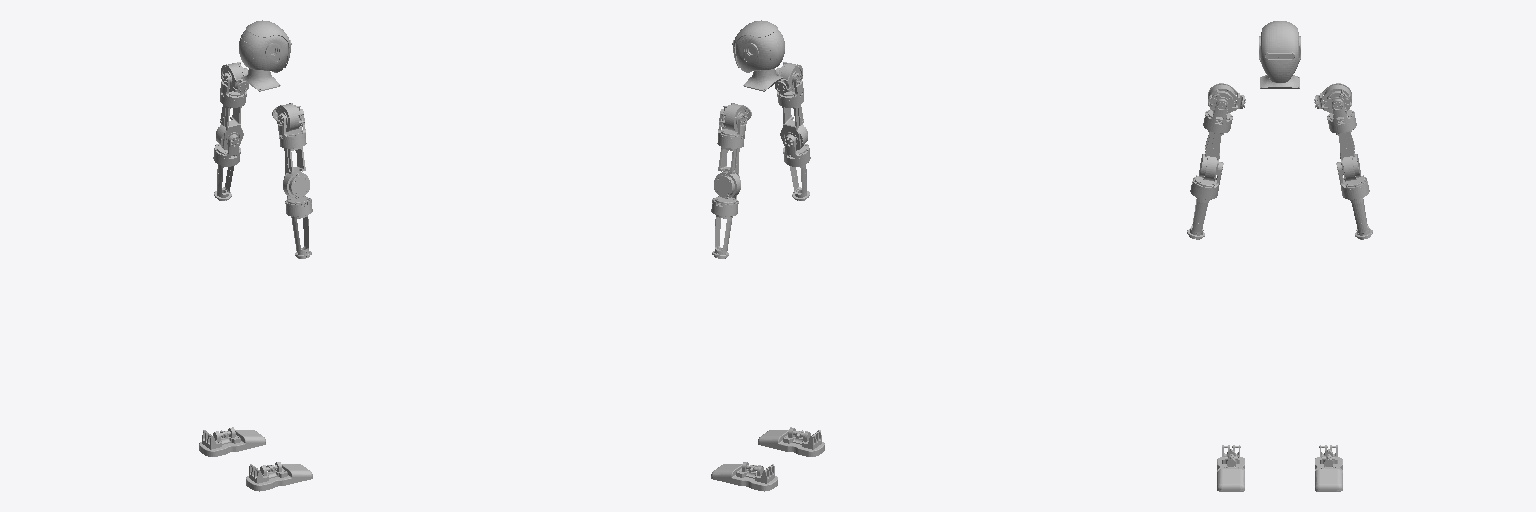
--- Facts derived from the render (not from the file) ---
Views: 3 orthographic renders of the robot side by side, from view 1: azimuth 30°, elevation 25°; view 2: azimuth 150°, elevation 25°; view 3: azimuth 270°, elevation 25°.
Robot: m1a_2v1_description — 27 links, 26 joints (23 revolute, 3 fixed); root link pelvis_link; default pose: all joints at 0.
Links seen in each view (by area): view 1: head_link, left_ankle_roll_link, right_ankle_roll_link, right_shoulder_yaw_link, left_shoulder_yaw_link, right_shoulder_roll_link, left_elbow_link, left_shoulder_roll_link, right_shoulder_pitch_link, left_shoulder_pitch_link; view 2: head_link, right_ankle_roll_link, left_ankle_roll_link, left_shoulder_yaw_link, right_shoulder_yaw_link, left_shoulder_roll_link, right_elbow_link, right_shoulder_roll_link, left_shoulder_pitch_link, right_shoulder_pitch_link; view 3: head_link, left_ankle_roll_link, right_ankle_roll_link, left_shoulder_yaw_link, right_shoulder_yaw_link, left_shoulder_pitch_link, right_shoulder_pitch_link, left_shoulder_roll_link, right_shoulder_roll_link, right_elbow_link, left_elbow_link.
Link boxes in pixels (bbox=[...]): head_link: bbox=[239, 20, 291, 91]; left_ankle_roll_link: bbox=[199, 427, 265, 456]; right_ankle_roll_link: bbox=[246, 462, 312, 491]; right_shoulder_yaw_link: bbox=[283, 147, 309, 198]; left_shoulder_yaw_link: bbox=[216, 105, 243, 150]; right_shoulder_roll_link: bbox=[278, 109, 306, 148]; left_elbow_link: bbox=[213, 134, 240, 166]; left_shoulder_roll_link: bbox=[220, 68, 247, 107]; right_shoulder_pitch_link: bbox=[272, 103, 304, 131]; left_shoulder_pitch_link: bbox=[221, 62, 248, 93]; head_link: bbox=[732, 20, 784, 91]; right_ankle_roll_link: bbox=[758, 427, 824, 456]; left_ankle_roll_link: bbox=[711, 462, 777, 491]; left_shoulder_yaw_link: bbox=[714, 147, 740, 198]; right_shoulder_yaw_link: bbox=[780, 105, 807, 150]; left_shoulder_roll_link: bbox=[717, 109, 745, 148]; right_elbow_link: bbox=[783, 134, 810, 166]; right_shoulder_roll_link: bbox=[776, 68, 803, 107]; left_shoulder_pitch_link: bbox=[719, 103, 751, 131]; right_shoulder_pitch_link: bbox=[775, 62, 802, 93]; head_link: bbox=[1259, 21, 1300, 88]; left_ankle_roll_link: bbox=[1315, 445, 1342, 491]; right_ankle_roll_link: bbox=[1217, 445, 1244, 491]; left_shoulder_yaw_link: bbox=[1336, 131, 1360, 181]; right_shoulder_yaw_link: bbox=[1199, 131, 1223, 181]; left_shoulder_pitch_link: bbox=[1314, 83, 1351, 113]; right_shoulder_pitch_link: bbox=[1208, 83, 1245, 113]; left_shoulder_roll_link: bbox=[1327, 99, 1356, 133]; right_shoulder_roll_link: bbox=[1203, 99, 1232, 133]; right_elbow_link: bbox=[1190, 162, 1223, 199]; left_elbow_link: bbox=[1336, 162, 1369, 199].
Bounding box of the posed robot: 0.2065 × 0.527 × 1.43 m (x, y, z).
Meshes: 27 distinct files referenced, 15 mesh visuals loaded (15 binary STL); not drawn: 12 (reference not matched to a file when rendering).

robot.urdf — m1a_2v1_description:
<?xml version='1.0' encoding='utf-8'?>
<robot name="m1a_2v1_description">
  <link name="pelvis_link">
    <inertial>
      <origin xyz="-0.0002767 0.0 -0.07464396" rpy="0 0 0" />
      <mass value="3.85781118" />
      <inertia ixx="0.01279832" ixy="3.34e-05" ixz="6.077e-05" iyy="0.01094948" iyz="2.028e-05" izz="0.01245453" />
    </inertial>
    <visual>
      <origin xyz="0 0 0" rpy="0 0 0" />
      <geometry>
        <mesh filename="package://m1a_2v1_description/meshes/pelvis_link.STL" />
      </geometry>
      <material name="">
        <color rgba="0.752941176470588 0.752941176470588 0.752941176470588 1" />
      </material>
    </visual>
    <collision>
      <origin xyz="0 0 0" rpy="0 0 0" />
      <geometry>
        <mesh filename="package://m1a_2v1_description/meshes/pelvis_link.STL" />
      </geometry>
    </collision>
  </link>
  <link name="left_hip_pitch_link">
    <inertial>
      <origin xyz="0.00439863 0.06967225 -0.0264805" rpy="0 0 0" />
      <mass value="1.1923104" />
      <inertia ixx="0.00209888" ixy="6.825e-05" ixz="-2.868e-05" iyy="0.0013375" iyz="-0.00023378" izz="0.00167475" />
    </inertial>
    <visual>
      <origin xyz="0 0 0" rpy="0 0 0" />
      <geometry>
        <mesh filename="package://m1a_2v1_description/meshes/left_hip_pitch_link.STL" />
      </geometry>
      <material name="">
        <color rgba="0.752941176470588 0.752941176470588 0.752941176470588 1" />
      </material>
    </visual>
    <collision>
      <origin xyz="0 0 0" rpy="0 0 0" />
      <geometry>
        <mesh filename="package://m1a_2v1_description/meshes/left_hip_pitch_link.STL" />
      </geometry>
    </collision>
  </link>
  <joint name="left_hip_pitch_joint" type="revolute">
    <origin xyz="0 0.06 -0.078" rpy="0 0 0" />
    <parent link="pelvis_link" />
    <child link="left_hip_pitch_link" />
    <axis xyz="0 1 0" />
    <limit lower="0" upper="1" effort="120" velocity="45" />
  </joint>
  <link name="left_hip_roll_link">
    <inertial>
      <origin xyz="0.00737354 0.0 -0.07967555" rpy="0 0 0" />
      <mass value="1.17336438" />
      <inertia ixx="0.00191197" ixy="1.4e-06" ixz="-3.142e-05" iyy="0.00215361" iyz="-5.7e-06" izz="0.00173493" />
    </inertial>
    <visual>
      <origin xyz="0 0 0" rpy="0 0 0" />
      <geometry>
        <mesh filename="package://m1a_2v1_description/meshes/left_hip_roll_link.STL" />
      </geometry>
      <material name="">
        <color rgba="0.752941176470588 0.752941176470588 0.752941176470588 1" />
      </material>
    </visual>
    <collision>
      <origin xyz="0 0 0" rpy="0 0 0" />
      <geometry>
        <mesh filename="package://m1a_2v1_description/meshes/left_hip_roll_link.STL" />
      </geometry>
    </collision>
  </link>
  <joint name="left_hip_roll_joint" type="revolute">
    <origin xyz="0 0.078 -0.03" rpy="0 0 0" />
    <parent link="left_hip_pitch_link" />
    <child link="left_hip_roll_link" />
    <axis xyz="1 0 0" />
    <limit lower="0" upper="1" effort="60" velocity="45" />
  </joint>
  <link name="left_hip_yaw_link">
    <inertial>
      <origin xyz="0.0017575 0.01635732 -0.09235947" rpy="0 0 0" />
      <mass value="2.28100963" />
      <inertia ixx="0.00899705" ixy="-5.837e-05" ixz="-0.00019778" iyy="0.01047086" iyz="0.00049254" izz="0.00358234" />
    </inertial>
    <visual>
      <origin xyz="0 0 0" rpy="0 0 0" />
      <geometry>
        <mesh filename="package://m1a_2v1_description/meshes/left_hip_yaw_link.STL" />
      </geometry>
      <material name="">
        <color rgba="0.752941176470588 0.752941176470588 0.752941176470588 1" />
      </material>
    </visual>
    <collision>
      <origin xyz="0 0 0" rpy="0 0 0" />
      <geometry>
        <mesh filename="package://m1a_2v1_description/meshes/left_hip_yaw_link.STL" />
      </geometry>
    </collision>
  </link>
  <joint name="left_hip_yaw_joint" type="revolute">
    <origin xyz="0.0077 0 -0.1145" rpy="0 0 0" />
    <parent link="left_hip_roll_link" />
    <child link="left_hip_yaw_link" />
    <axis xyz="0 0 1" />
    <limit lower="0" upper="1" effort="60" velocity="45" />
  </joint>
  <link name="left_knee_link">
    <inertial>
      <origin xyz="-0.01143787 -6.276e-05 -0.155885" rpy="0 0 0" />
      <mass value="1.60203883" />
      <inertia ixx="0.01241494" ixy="4.84e-06" ixz="0.00147619" iyy="0.01282899" iyz="9.635e-05" izz="0.00127411" />
    </inertial>
    <visual>
      <origin xyz="0 0 0" rpy="0 0 0" />
      <geometry>
        <mesh filename="package://m1a_2v1_description/meshes/left_knee_link.STL" />
      </geometry>
      <material name="">
        <color rgba="0.752941176470588 0.752941176470588 0.752941176470588 1" />
      </material>
    </visual>
    <collision>
      <origin xyz="0 0 0" rpy="0 0 0" />
      <geometry>
        <mesh filename="package://m1a_2v1_description/meshes/left_knee_link.STL" />
      </geometry>
    </collision>
  </link>
  <joint name="left_knee_joint" type="revolute">
    <origin xyz="0 0 -0.2375" rpy="0 0 0" />
    <parent link="left_hip_yaw_link" />
    <child link="left_knee_link" />
    <axis xyz="0 1 0" />
    <limit lower="0" upper="1" effort="120" velocity="45" />
  </joint>
  <link name="left_ankle_pitch_link">
    <inertial>
      <origin xyz="-1.972e-05 -0.00017026 -4.388e-05" rpy="0 0 0" />
      <mass value="0.07369218" />
      <inertia ixx="4.67e-06" ixy="0.0" ixz="0.0" iyy="8.91e-06" iyz="0.0" izz="1.119e-05" />
    </inertial>
    <visual>
      <origin xyz="0 0 0" rpy="0 0 0" />
      <geometry>
        <mesh filename="package://m1a_2v1_description/meshes/left_ankle_pitch_link.STL" />
      </geometry>
      <material name="">
        <color rgba="0.752941176470588 0.752941176470588 0.752941176470588 1" />
      </material>
    </visual>
    <collision>
      <origin xyz="0 0 0" rpy="0 0 0" />
      <geometry>
        <mesh filename="package://m1a_2v1_description/meshes/left_ankle_pitch_link.STL" />
      </geometry>
    </collision>
  </link>
  <joint name="left_ankle_pitch_joint" type="revolute">
    <origin xyz="-0.052337 0 -0.34606" rpy="0 0 0" />
    <parent link="left_knee_link" />
    <child link="left_ankle_pitch_link" />
    <axis xyz="0 1 0" />
    <limit lower="0" upper="1" effort="34" velocity="45" />
  </joint>
  <link name="left_ankle_roll_link">
    <inertial>
      <origin xyz="0.01650007 -1.355e-05 -0.02844645" rpy="0 0 0" />
      <mass value="0.68123515" />
      <inertia ixx="0.00038658" ixy="6.4e-07" ixz="-9.707e-05" iyy="0.00214161" iyz="-2.7e-07" izz="0.0023246" />
    </inertial>
    <visual>
      <origin xyz="0 0 0" rpy="0 0 0" />
      <geometry>
        <mesh filename="package://m1a_2v1_description/meshes/left_ankle_roll_link.STL" />
      </geometry>
      <material name="">
        <color rgba="0.752941176470588 0.752941176470588 0.752941176470588 1" />
      </material>
    </visual>
    <collision>
      <origin xyz="0 0 0" rpy="0 0 0" />
      <geometry>
        <mesh filename="package://m1a_2v1_description/meshes/left_ankle_roll_link.STL" />
      </geometry>
    </collision>
  </link>
  <joint name="left_ankle_roll_joint" type="revolute">
    <origin xyz="0 0 0" rpy="0 0 0" />
    <parent link="left_ankle_pitch_link" />
    <child link="left_ankle_roll_link" />
    <axis xyz="1 0 0" />
    <limit lower="0" upper="1" effort="34" velocity="45" />
  </joint>
  <link name="right_hip_pitch_link">
    <inertial>
      <origin xyz="0.0043986 -0.06965536 -0.02648049" rpy="0 0 0" />
      <mass value="1.19231204" />
      <inertia ixx="0.00209854" ixy="-7.903e-05" ixz="-2.866e-05" iyy="0.00133751" iyz="0.00023104" izz="0.00167441" />
    </inertial>
    <visual>
      <origin xyz="0 0 0" rpy="0 0 0" />
      <geometry>
        <mesh filename="package://m1a_2v1_description/meshes/right_hip_pitch_link.STL" />
      </geometry>
      <material name="">
        <color rgba="0.752941176470588 0.752941176470588 0.752941176470588 1" />
      </material>
    </visual>
    <collision>
      <origin xyz="0 0 0" rpy="0 0 0" />
      <geometry>
        <mesh filename="package://m1a_2v1_description/meshes/right_hip_pitch_link.STL" />
      </geometry>
    </collision>
  </link>
  <joint name="right_hip_pitch_joint" type="revolute">
    <origin xyz="0 -0.06 -0.078" rpy="0 0 0" />
    <parent link="pelvis_link" />
    <child link="right_hip_pitch_link" />
    <axis xyz="0 1 0" />
    <limit lower="0" upper="1" effort="120" velocity="45" />
  </joint>
  <link name="right_hip_roll_link">
    <inertial>
      <origin xyz="0.00736823 1.254e-05 -0.07967358" rpy="0 0 0" />
      <mass value="1.17336698" />
      <inertia ixx="0.00190845" ixy="-5.31e-06" ixz="-2.684e-05" iyy="0.00215782" iyz="-5.25e-06" izz="0.00173494" />
    </inertial>
    <visual>
      <origin xyz="0 0 0" rpy="0 0 0" />
      <geometry>
        <mesh filename="package://m1a_2v1_description/meshes/right_hip_roll_link.STL" />
      </geometry>
      <material name="">
        <color rgba="0.752941176470588 0.752941176470588 0.752941176470588 1" />
      </material>
    </visual>
    <collision>
      <origin xyz="0 0 0" rpy="0 0 0" />
      <geometry>
        <mesh filename="package://m1a_2v1_description/meshes/right_hip_roll_link.STL" />
      </geometry>
    </collision>
  </link>
  <joint name="right_hip_roll_joint" type="revolute">
    <origin xyz="0 -0.078 -0.03" rpy="0 0 0" />
    <parent link="right_hip_pitch_link" />
    <child link="right_hip_roll_link" />
    <axis xyz="1 0 0" />
    <limit lower="0" upper="1" effort="60" velocity="45" />
  </joint>
  <link name="right_hip_yaw_link">
    <inertial>
      <origin xyz="0.0017575 -0.01635731 -0.09266539" rpy="0 0 0" />
      <mass value="2.28101084" />
      <inertia ixx="0.00900462" ixy="1.638e-05" ixz="-0.00020909" iyy="0.01044342" iyz="-0.00048231" izz="0.00354733" />
    </inertial>
    <visual>
      <origin xyz="0 0 0" rpy="0 0 0" />
      <geometry>
        <mesh filename="package://m1a_2v1_description/meshes/right_hip_yaw_link.STL" />
      </geometry>
      <material name="">
        <color rgba="0.752941176470588 0.752941176470588 0.752941176470588 1" />
      </material>
    </visual>
    <collision>
      <origin xyz="0 0 0" rpy="0 0 0" />
      <geometry>
        <mesh filename="package://m1a_2v1_description/meshes/right_hip_yaw_link.STL" />
      </geometry>
    </collision>
  </link>
  <joint name="right_hip_yaw_joint" type="revolute">
    <origin xyz="0.0077 0 -0.1145" rpy="0 0 0" />
    <parent link="right_hip_roll_link" />
    <child link="right_hip_yaw_link" />
    <axis xyz="0 0 1" />
    <limit lower="0" upper="1" effort="60" velocity="45" />
  </joint>
  <link name="right_knee_link">
    <inertial>
      <origin xyz="-0.01106561 6.276e-05 -0.1556485" rpy="0 0 0" />
      <mass value="1.60204216" />
      <inertia ixx="0.01241829" ixy="-2.72e-06" ixz="0.00148615" iyy="0.01282292" iyz="-8.874e-05" izz="0.00126458" />
    </inertial>
    <visual>
      <origin xyz="0 0 0" rpy="0 0 0" />
      <geometry>
        <mesh filename="package://m1a_2v1_description/meshes/right_knee_link.STL" />
      </geometry>
      <material name="">
        <color rgba="0.752941176470588 0.752941176470588 0.752941176470588 1" />
      </material>
    </visual>
    <collision>
      <origin xyz="0 0 0" rpy="0 0 0" />
      <geometry>
        <mesh filename="package://m1a_2v1_description/meshes/right_knee_link.STL" />
      </geometry>
    </collision>
  </link>
  <joint name="right_knee_joint" type="revolute">
    <origin xyz="0 0 -0.2375" rpy="0 0 0" />
    <parent link="right_hip_yaw_link" />
    <child link="right_knee_link" />
    <axis xyz="0 1 0" />
    <limit lower="0" upper="1" effort="120" velocity="45" />
  </joint>
  <link name="right_ankle_pitch_link">
    <inertial>
      <origin xyz="-1.984e-05 0.00017025 -4.38e-05" rpy="0 0 0" />
      <mass value="0.07369165" />
      <inertia ixx="4.67e-06" ixy="0.0" ixz="0.0" iyy="8.91e-06" iyz="0.0" izz="1.119e-05" />
    </inertial>
    <visual>
      <origin xyz="0 0 0" rpy="0 0 0" />
      <geometry>
        <mesh filename="package://m1a_2v1_description/meshes/right_ankle_pitch_link.STL" />
      </geometry>
      <material name="">
        <color rgba="0.752941176470588 0.752941176470588 0.752941176470588 1" />
      </material>
    </visual>
    <collision>
      <origin xyz="0 0 0" rpy="0 0 0" />
      <geometry>
        <mesh filename="package://m1a_2v1_description/meshes/right_ankle_pitch_link.STL" />
      </geometry>
    </collision>
  </link>
  <joint name="right_ankle_pitch_joint" type="revolute">
    <origin xyz="-0.052337 0 -0.34606" rpy="0 0 0" />
    <parent link="right_knee_link" />
    <child link="right_ankle_pitch_link" />
    <axis xyz="0 1 0" />
    <limit lower="0" upper="1" effort="34" velocity="45" />
  </joint>
  <link name="right_ankle_roll_link">
    <inertial>
      <origin xyz="0.01650018 1.334e-05 -0.02844648" rpy="0 0 0" />
      <mass value="0.68123202" />
      <inertia ixx="0.00038658" ixy="-6.4e-07" ixz="-9.707e-05" iyy="0.00214159" iyz="2.7e-07" izz="0.00232458" />
    </inertial>
    <visual>
      <origin xyz="0 0 0" rpy="0 0 0" />
      <geometry>
        <mesh filename="package://m1a_2v1_description/meshes/right_ankle_roll_link.STL" />
      </geometry>
      <material name="">
        <color rgba="0.752941176470588 0.752941176470588 0.752941176470588 1" />
      </material>
    </visual>
    <collision>
      <origin xyz="0 0 0" rpy="0 0 0" />
      <geometry>
        <mesh filename="package://m1a_2v1_description/meshes/right_ankle_roll_link.STL" />
      </geometry>
    </collision>
  </link>
  <joint name="right_ankle_roll_joint" type="revolute">
    <origin xyz="0 0 0" rpy="0 0 0" />
    <parent link="right_ankle_pitch_link" />
    <child link="right_ankle_roll_link" />
    <axis xyz="1 0 0" />
    <limit lower="0" upper="1" effort="34" velocity="45" />
  </joint>

  <link name="torso_link">
    <inertial>
      <origin xyz="-0.00267641 0.00128584 0.2051943" rpy="0 0 0" />
      <mass value="8.41526419" />
      <inertia ixx="0.11755991" ixy="9.48e-05" ixz="-5.125e-05" iyy="0.09815709" iyz="-0.00029839" izz="0.04159745" />
    </inertial>
    <visual>
      <origin xyz="0 0 0" rpy="0 0 0" />
      <geometry>
        <mesh filename="package://m1a_2v1_description/meshes/torso_link.STL" />
      </geometry>
      <material name="">
        <color rgba="0.752941176470588 0.752941176470588 0.752941176470588 1" />
      </material>
    </visual>
    <collision>
      <origin xyz="0 0 0" rpy="0 0 0" />
      <geometry>
        <mesh filename="package://m1a_2v1_description/meshes/torso_link.STL" />
      </geometry>
    </collision>
  </link>
  <joint name="waist_joint" type="revolute">
    <origin xyz="0 0 0" rpy="0 0 0" />
    <parent link="pelvis_link" />
    <child link="torso_link" />
    <axis xyz="0 0 1" />
    <limit lower="-1.57" upper="1.57" effort="60" velocity="45" />
  </joint>
  <link name="left_shoulder_pitch_link">
    <inertial>
      <origin xyz="0.00142272 0.05846902 0.0" rpy="0 0 0" />
      <mass value="0.52377462" />
      <inertia ixx="0.00056256" ixy="6.75e-06" ixz="-1.2e-06" iyy="0.00036121" iyz="4e-08" izz="0.00047944" />
    </inertial>
    <visual>
      <origin xyz="0 0 0" rpy="0 0 0" />
      <geometry>
        <mesh filename="package://m1a_2v1_description/meshes/left_shoulder_pitch_link.STL" />
      </geometry>
      <material name="">
        <color rgba="0.752941176470588 0.752941176470588 0.752941176470588 1" />
      </material>
    </visual>
    <collision>
      <origin xyz="0 0 0" rpy="0 0 0" />
      <geometry>
        <mesh filename="package://m1a_2v1_description/meshes/left_shoulder_pitch_link.STL" />
      </geometry>
    </collision>
  </link>
  <joint name="left_shoulder_pitch_joint" type="revolute">
    <origin xyz="0 0.10312 0.32768" rpy="0.17453 0 0" />
    <parent link="torso_link" />
    <child link="left_shoulder_pitch_link" />
    <axis xyz="0 1 0" />
    <limit lower="-3.1" upper="3.1" effort="17" velocity="45" />
  </joint>
  <link name="left_shoulder_roll_link">
    <inertial>
      <origin xyz="0.00756863 0.0 -0.06067099" rpy="0 0 0" />
      <mass value="0.54470835" />
      <inertia ixx="0.00061953" ixy="4e-08" ixz="-9.04e-06" iyy="0.00071812" iyz="-1.19e-06" izz="0.00054112" />
    </inertial>
    <visual>
      <origin xyz="0 0 0" rpy="0 0 0" />
      <geometry>
        <mesh filename="package://m1a_2v1_description/meshes/left_shoulder_roll_link.STL" />
      </geometry>
      <material name="">
        <color rgba="0.752941176470588 0.752941176470588 0.752941176470588 1" />
      </material>
    </visual>
    <collision>
      <origin xyz="0 0 0" rpy="0 0 0" />
      <geometry>
        <mesh filename="package://m1a_2v1_description/meshes/left_shoulder_roll_link.STL" />
      </geometry>
    </collision>
  </link>
  <joint name="left_shoulder_roll_joint" type="revolute">
    <origin xyz="0 0.062 0" rpy="0 0 0" />
    <parent link="left_shoulder_pitch_link" />
    <child link="left_shoulder_roll_link" />
    <axis xyz="1 0 0" />
    <limit lower="0" upper="3" effort="17" velocity="45" />
  </joint>
  <link name="left_shoulder_yaw_link">
    <inertial>
      <origin xyz="0.0 -0.00470929 -0.09697647" rpy="0 0 0" />
      <mass value="0.60152945" />
      <inertia ixx="0.00128924" ixy="1.2e-06" ixz="4e-08" iyy="0.00141693" iyz="5.676e-05" izz="0.00035757" />
    </inertial>
    <visual>
      <origin xyz="0 0 0" rpy="0 0 0" />
      <geometry>
        <mesh filename="package://m1a_2v1_description/meshes/left_shoulder_yaw_link.STL" />
      </geometry>
      <material name="">
        <color rgba="0.752941176470588 0.752941176470588 0.752941176470588 1" />
      </material>
    </visual>
    <collision>
      <origin xyz="0 0 0" rpy="0 0 0" />
      <geometry>
        <mesh filename="package://m1a_2v1_description/meshes/left_shoulder_yaw_link.STL" />
      </geometry>
    </collision>
  </link>
  <joint name="left_shoulder_yaw_joint" type="revolute">
    <origin xyz="0.008 0 -0.09" rpy="0 0 0" />
    <parent link="left_shoulder_roll_link" />
    <child link="left_shoulder_yaw_link" />
    <axis xyz="0 0 1" />
    <limit lower="-3.1" upper="3.1" effort="17" velocity="45" />
  </joint>
  <link name="left_elbow_link">
    <inertial>
      <origin xyz="0.0 -0.0039358 -0.06337009" rpy="0 0 0" />
      <mass value="0.50532736" />
      <inertia ixx="0.00059991" ixy="-4e-08" ixz="-1.2e-06" iyy="0.00054732" iyz="-0.0001032" izz="0.00047688" />
    </inertial>
    <visual>
      <origin xyz="0 0 0" rpy="0 0 0" />
      <geometry>
        <mesh filename="package://m1a_2v1_description/meshes/left_elbow_link.STL" />
      </geometry>
      <material name="">
        <color rgba="0.752941176470588 0.752941176470588 0.752941176470588 1" />
      </material>
    </visual>
    <collision>
      <origin xyz="0 0 0" rpy="0 0 0" />
      <geometry>
        <mesh filename="package://m1a_2v1_description/meshes/left_elbow_link.STL" />
      </geometry>
    </collision>
  </link>
  <joint name="left_elbow_joint" type="revolute">
    <origin xyz="0 0 -0.12" rpy="0 0 0" />
    <parent link="left_shoulder_yaw_link" />
    <child link="left_elbow_link" />
    <axis xyz="0 1 0" />
    <limit lower="-1.6" upper="1.6" effort="17" velocity="45" />
  </joint>
  <link name="left_wrist_link">
    <inertial>
      <origin xyz="0.0 0.0 -0.05688023" rpy="0 0 0" />
      <mass value="0.14796633" />
      <inertia ixx="0.00033605" ixy="0.0" ixz="0.0" iyy="0.0003573" iyz="0.0" izz="5.017e-05" />
    </inertial>
    <visual>
      <origin xyz="0 0 0" rpy="0 0 0" />
      <geometry>
        <mesh filename="package://m1a_2v1_description/meshes/left_wrist_link.STL" />
      </geometry>
      <material name="">
        <color rgba="0.752941176470588 0.752941176470588 0.752941176470588 1" />
      </material>
    </visual>
    <collision>
      <origin xyz="0 0 0" rpy="0 0 0" />
      <geometry>
        <mesh filename="package://m1a_2v1_description/meshes/left_wrist_link.STL" />
      </geometry>
    </collision>
  </link>
  <joint name="left_wrist_joint" type="revolute">
    <origin xyz="0 0 -0.09" rpy="0 0 0" />
    <parent link="left_elbow_link" />
    <child link="left_wrist_link" />
    <axis xyz="0 0 1" />
    <limit lower="-3.1" upper="3.1" effort="17" velocity="45" />
  </joint>
  <link name="left_hand_link">
    <inertial>
      <origin xyz="0.00134409 -0.00103198 -0.08623" rpy="0 0 0" />
      <mass value="0.541" />
      <inertia ixx="0.00123667" ixy="-3.758e-05" ixz="-2.08e-05" iyy="0.00143675" iyz="-2.111e-05" izz="0.00034654" />
    </inertial>
    <visual>
      <origin xyz="0 0 0" rpy="0 0 0" />
      <geometry>
        <mesh filename="package://m1a_2v1_description/meshes/left_hand_link.STL" />
      </geometry>
      <material name="">
        <color rgba="0.752941176470588 0.752941176470588 0.752941176470588 1" />
      </material>
    </visual>
    <collision>
      <origin xyz="0 0 0" rpy="0 0 0" />
      <geometry>
        <mesh filename="package://m1a_2v1_description/meshes/left_hand_link.STL" />
      </geometry>
    </collision>
  </link>
  <joint name="left_wrist_fixed_joint" type="fixed">
    <origin xyz="0 0 -0.1251" rpy="0 0 0" />
    <parent link="left_wrist_link" />
    <child link="left_hand_link" />
    <axis xyz="0 0 0" />
  <!--limit /> -->
  </joint>
  <link name="right_shoulder_pitch_link">
    <inertial>
      <origin xyz="0.00142272 -0.05846902 0.0" rpy="0 0 0" />
      <mass value="0.52377462" />
      <inertia ixx="0.00056256" ixy="-6.75e-06" ixz="1.2e-06" iyy="0.00036121" iyz="4e-08" izz="0.00047944" />
    </inertial>
    <visual>
      <origin xyz="0 0 0" rpy="0 0 0" />
      <geometry>
        <mesh filename="package://m1a_2v1_description/meshes/right_shoulder_pitch_link.STL" />
      </geometry>
      <material name="">
        <color rgba="0.752941176470588 0.752941176470588 0.752941176470588 1" />
      </material>
    </visual>
    <collision>
      <origin xyz="0 0 0" rpy="0 0 0" />
      <geometry>
        <mesh filename="package://m1a_2v1_description/meshes/right_shoulder_pitch_link.STL" />
      </geometry>
    </collision>
  </link>
  <joint name="right_shoulder_pitch_joint" type="revolute">
    <origin xyz="0 -0.10312 0.32768" rpy="-0.17453 0 0" />
    <parent link="torso_link" />
    <child link="right_shoulder_pitch_link" />
    <axis xyz="0 1 0" />
    <limit lower="-3.1" upper="3.1" effort="17" velocity="45" />
  </joint>
  <link name="right_shoulder_roll_link">
    <inertial>
      <origin xyz="0.00756863 0.0 -0.06067099" rpy="0 0 0" />
      <mass value="0.54470835" />
      <inertia ixx="0.00061953" ixy="4e-08" ixz="-9.04e-06" iyy="0.00071812" iyz="-1.19e-06" izz="0.00054112" />
    </inertial>
    <visual>
      <origin xyz="0 0 0" rpy="0 0 0" />
      <geometry>
        <mesh filename="package://m1a_2v1_description/meshes/right_shoulder_roll_link.STL" />
      </geometry>
      <material name="">
        <color rgba="0.752941176470588 0.752941176470588 0.752941176470588 1" />
      </material>
    </visual>
    <collision>
      <origin xyz="0 0 0" rpy="0 0 0" />
      <geometry>
        <mesh filename="package://m1a_2v1_description/meshes/right_shoulder_roll_link.STL" />
      </geometry>
    </collision>
  </link>
  <joint name="right_shoulder_roll_joint" type="revolute">
    <origin xyz="0 -0.062 0" rpy="0 0 0" />
    <parent link="right_shoulder_pitch_link" />
    <child link="right_shoulder_roll_link" />
    <axis xyz="1 0 0" />
    <limit lower="-3" upper="0" effort="17" velocity="45" />
  </joint>
  <link name="right_shoulder_yaw_link">
    <inertial>
      <origin xyz="0.0 0.00470929 -0.09697647" rpy="0 0 0" />
      <mass value="0.60152945" />
      <inertia ixx="0.00128924" ixy="1.2e-06" ixz="-4e-08" iyy="0.00141693" iyz="-5.676e-05" izz="0.00035757" />
    </inertial>
    <visual>
      <origin xyz="0 0 0" rpy="0 0 0" />
      <geometry>
        <mesh filename="package://m1a_2v1_description/meshes/right_shoulder_yaw_link.STL" />
      </geometry>
      <material name="">
        <color rgba="0.752941176470588 0.752941176470588 0.752941176470588 1" />
      </material>
    </visual>
    <collision>
      <origin xyz="0 0 0" rpy="0 0 0" />
      <geometry>
        <mesh filename="package://m1a_2v1_description/meshes/right_shoulder_yaw_link.STL" />
      </geometry>
    </collision>
  </link>
  <joint name="right_shoulder_yaw_joint" type="revolute">
    <origin xyz="0.008 0 -0.09" rpy="0 0 0" />
    <parent link="right_shoulder_roll_link" />
    <child link="right_shoulder_yaw_link" />
    <axis xyz="0 0 1" />
    <limit lower="-3.1" upper="3.1" effort="17" velocity="45" />
  </joint>
  <link name="right_elbow_link">
    <inertial>
      <origin xyz="0.0 0.0039358 -0.06337009" rpy="0 0 0" />
      <mass value="0.50532736" />
      <inertia ixx="0.00059991" ixy="-4e-08" ixz="1.2e-06" iyy="0.00054732" iyz="0.0001032" izz="0.00047688" />
    </inertial>
    <visual>
      <origin xyz="0 0 0" rpy="0 0 0" />
      <geometry>
        <mesh filename="package://m1a_2v1_description/meshes/right_elbow_link.STL" />
      </geometry>
      <material name="">
        <color rgba="0.752941176470588 0.752941176470588 0.752941176470588 1" />
      </material>
    </visual>
    <collision>
      <origin xyz="0 0 0" rpy="0 0 0" />
      <geometry>
        <mesh filename="package://m1a_2v1_description/meshes/right_elbow_link.STL" />
      </geometry>
    </collision>
  </link>
  <joint name="right_elbow_joint" type="revolute">
    <origin xyz="0 0 -0.12" rpy="0 0 0" />
    <parent link="right_shoulder_yaw_link" />
    <child link="right_elbow_link" />
    <axis xyz="0 1 0" />
    <limit lower="-1.6" upper="1.6" effort="17" velocity="45" />
  </joint>
  <link name="right_wrist_link">
    <inertial>
      <origin xyz="0.0 0.0 -0.05688023" rpy="0 0 0" />
      <mass value="0.14796633" />
      <inertia ixx="0.00033605" ixy="0.0" ixz="0.0" iyy="0.0003573" iyz="0.0" izz="5.017e-05" />
    </inertial>
    <visual>
      <origin xyz="0 0 0" rpy="0 0 0" />
      <geometry>
        <mesh filename="package://m1a_2v1_description/meshes/right_wrist_link.STL" />
      </geometry>
      <material name="">
        <color rgba="0.752941176470588 0.752941176470588 0.752941176470588 1" />
      </material>
    </visual>
    <collision>
      <origin xyz="0 0 0" rpy="0 0 0" />
      <geometry>
        <mesh filename="package://m1a_2v1_description/meshes/right_wrist_link.STL" />
      </geometry>
    </collision>
  </link>
  <joint name="right_wrist_joint" type="revolute">
    <origin xyz="0 0 -0.09" rpy="0 0 0" />
    <parent link="right_elbow_link" />
    <child link="right_wrist_link" />
    <axis xyz="0 0 1" />
    <limit lower="-3.1" upper="3.1" effort="17" velocity="45" />
  </joint>
  <link name="right_hand_link">
    <inertial>
      <origin xyz="0.00134426 0.00103208 -0.0862301" rpy="0 0 0" />
      <mass value="0.541" />
      <inertia ixx="0.00123667" ixy="3.758e-05" ixz="-2.081e-05" iyy="0.00143675" iyz="2.111e-05" izz="0.00034655" />
    </inertial>
    <visual>
      <origin xyz="0 0 0" rpy="0 0 0" />
      <geometry>
        <mesh filename="package://m1a_2v1_description/meshes/right_hand_link.STL" />
      </geometry>
      <material name="">
        <color rgba="0.752941176470588 0.752941176470588 0.752941176470588 1" />
      </material>
    </visual>
    <collision>
      <origin xyz="0 0 0" rpy="0 0 0" />
      <geometry>
        <mesh filename="package://m1a_2v1_description/meshes/right_hand_link.STL" />
      </geometry>
    </collision>
  </link>
  <joint name="right_wrist_fixed_joint" type="fixed">
    <origin xyz="0 0 -0.1251" rpy="0 0 0" />
    <parent link="right_wrist_link" />
    <child link="right_hand_link" />
    <axis xyz="0 0 0" />
  <!--limit /></joint-->
  </joint>
  <link name="head_link">
    <inertial>
      <origin xyz="0.02092469 0.00017192 0.0999517" rpy="0 0 0" />
      <mass value="0.652" />
      <inertia ixx="0.00244536" ixy="3.96e-06" ixz="0.0001487" iyy="0.00288502" iyz="1.55e-06" izz="0.00199362" />
    </inertial>
    <visual>
      <origin xyz="0 0 0" rpy="0 0 0" />
      <geometry>
        <mesh filename="package://m1a_2v1_description/meshes/head_link.STL" />
      </geometry>
      <material name="">
        <color rgba="0.752941176470588 0.752941176470588 0.752941176470588 1" />
      </material>
    </visual>
    <collision>
      <origin xyz="0 0 0" rpy="0 0 0" />
      <geometry>
        <mesh filename="package://m1a_2v1_description/meshes/head_link.STL" />
      </geometry>
    </collision>
  </link>
  <joint name="neck_joint" type="fixed">
    <origin xyz="0 0 0.3875" rpy="0 0 0" />
    <parent link="torso_link" />
    <child link="head_link" />
    <axis xyz="0 0 0" />
  <!--limit /-->
  </joint>
</robot>
